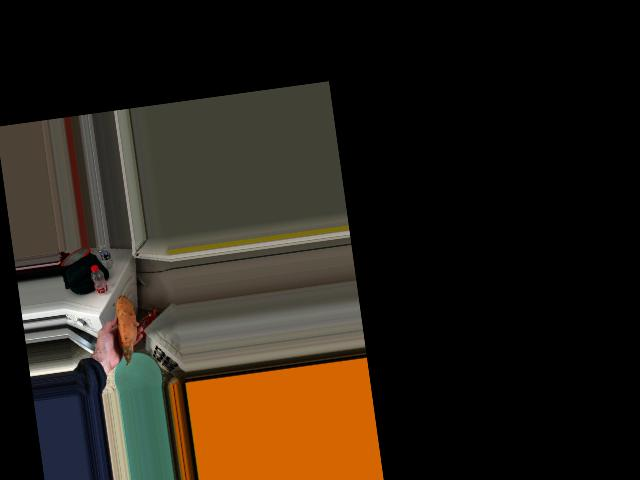sweet_potato: (108, 288, 139, 352)
